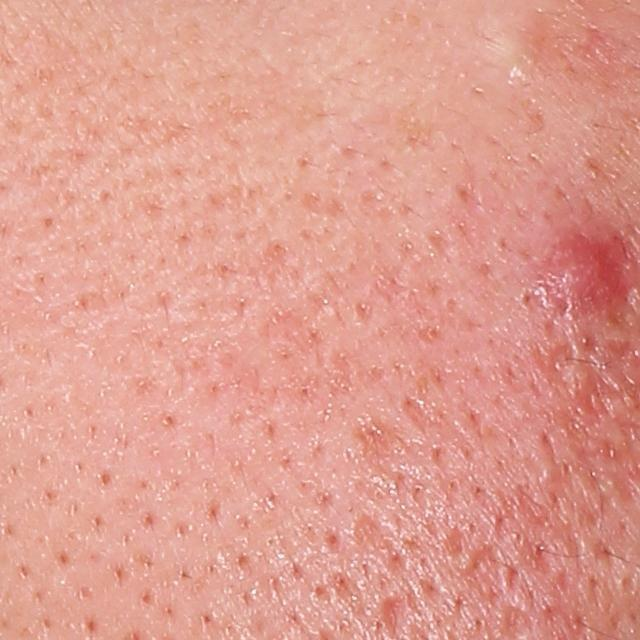atrophic_scar: (351, 409, 401, 473), (543, 340, 578, 387)
comedo: (481, 24, 550, 87)
papule: (537, 211, 640, 321)
